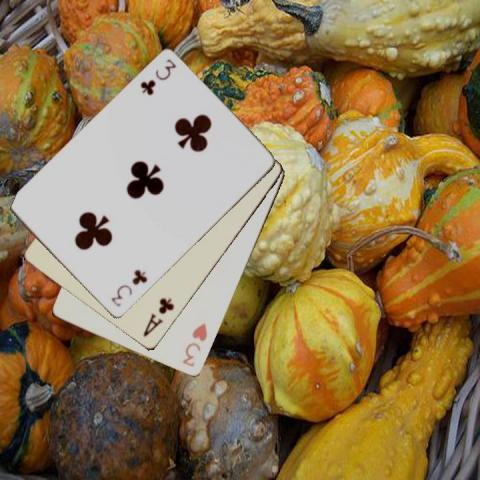3c: (108, 267, 149, 308), (137, 56, 177, 97)
3h: (180, 320, 210, 369)
Ac: (140, 295, 176, 338)
